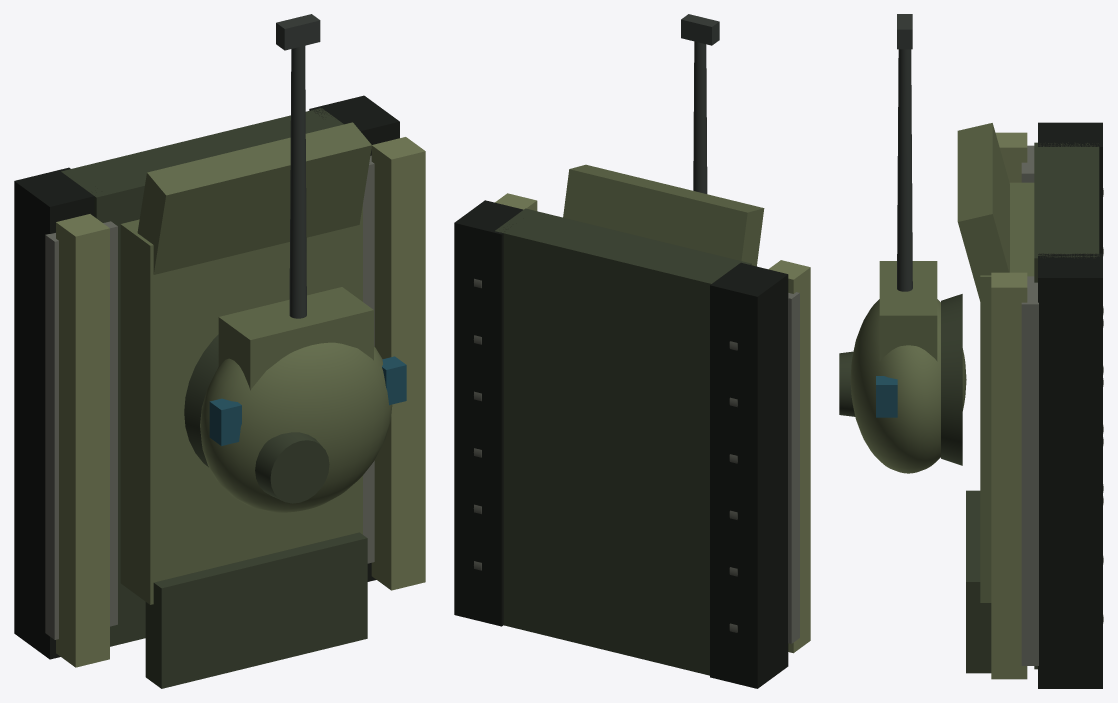
3 renders of one model, left to right at view 1: azimuth 30°, elevation 25°; view 2: azimuth 150°, elevation 25°; view 3: azimuth 270°, elevation 25°, orthographic. The views are drawn at different scales.
Visible parts, largest first — view 1: patton_hull_upper, rear_engine_deck, left_fender, rounded_front_casting, right_fender, tall_cast_turret, left_track_rubber, patton_hull_lower, left_track_guard, turret_front_nose, barrel_tube, large_commander_cupola (+6 smaller); view 2: patton_hull_lower, left_track_rubber, right_track_rubber, rounded_front_casting, left_fender, left_track_guard, barrel_tube, muzzle_brake; view 3: right_track_rubber, right_fender, tall_cast_turret, patton_hull_lower, rounded_front_casting, right_track_guard, patton_hull_upper, turret_front_nose, turret_ring, barrel_tube, rear_engine_deck, left_track_rubber (+5 smaller).
Part boxes in pixels (<box>): patton_hull_upper: <box>120,204,362,604</box>; rear_engine_deck: <box>145,532,367,688</box>; left_fender: <box>56,214,109,667</box>; rounded_front_casting: <box>137,122,371,274</box>; right_fender: <box>371,137,425,590</box>; tall_cast_turret: <box>200,342,392,512</box>; left_track_rubber: <box>14,167,94,659</box>; patton_hull_lower: <box>61,108,343,646</box>; left_track_guard: <box>45,221,117,639</box>; turret_front_nose: <box>218,287,373,390</box>; barrel_tube: <box>289,45,306,318</box>; large_commander_cupola: <box>255,432,329,503</box>; patton_hull_lower: <box>495,208,751,675</box>; left_track_rubber: <box>710,262,788,688</box>; right_track_rubber: <box>454,200,523,626</box>; rounded_front_casting: <box>563,164,764,266</box>; left_fender: <box>769,260,810,653</box>; left_track_guard: <box>788,292,799,643</box>; barrel_tube: <box>693,41,707,193</box>; muzzle_brake: <box>681,14,719,45</box>; right_track_rubber: <box>1038,253,1102,688</box>; right_fender: <box>991,272,1027,679</box>; tall_cast_turret: <box>850,299,966,473</box>; patton_hull_lower: <box>1034,142,1099,669</box>; rounded_front_casting: <box>957,123,1009,301</box>; right_track_guard: <box>1021,276,1038,665</box>; patton_hull_upper: <box>980,182,1034,602</box>; turret_front_nose: <box>879,261,937,361</box>; turret_ring: <box>941,294,962,465</box>; barrel_tube: <box>897,49,912,291</box>; rear_engine_deck: <box>966,490,991,673</box>; left_track_rubber: <box>1038,122,1102,253</box>.
Bounding box in the file's own units: 52.2 × 92.85 × 36.7.
